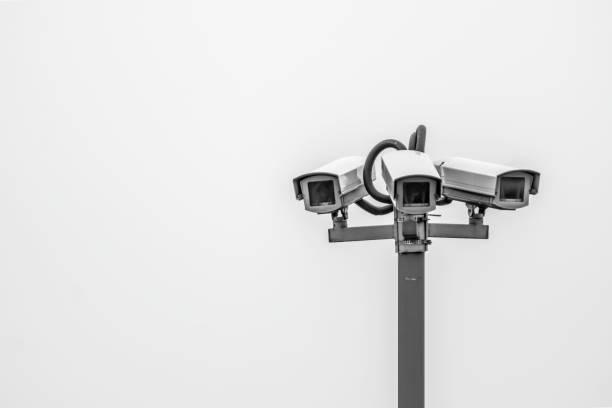camera: (369, 101, 448, 261), (456, 121, 548, 245), (279, 132, 367, 246)
